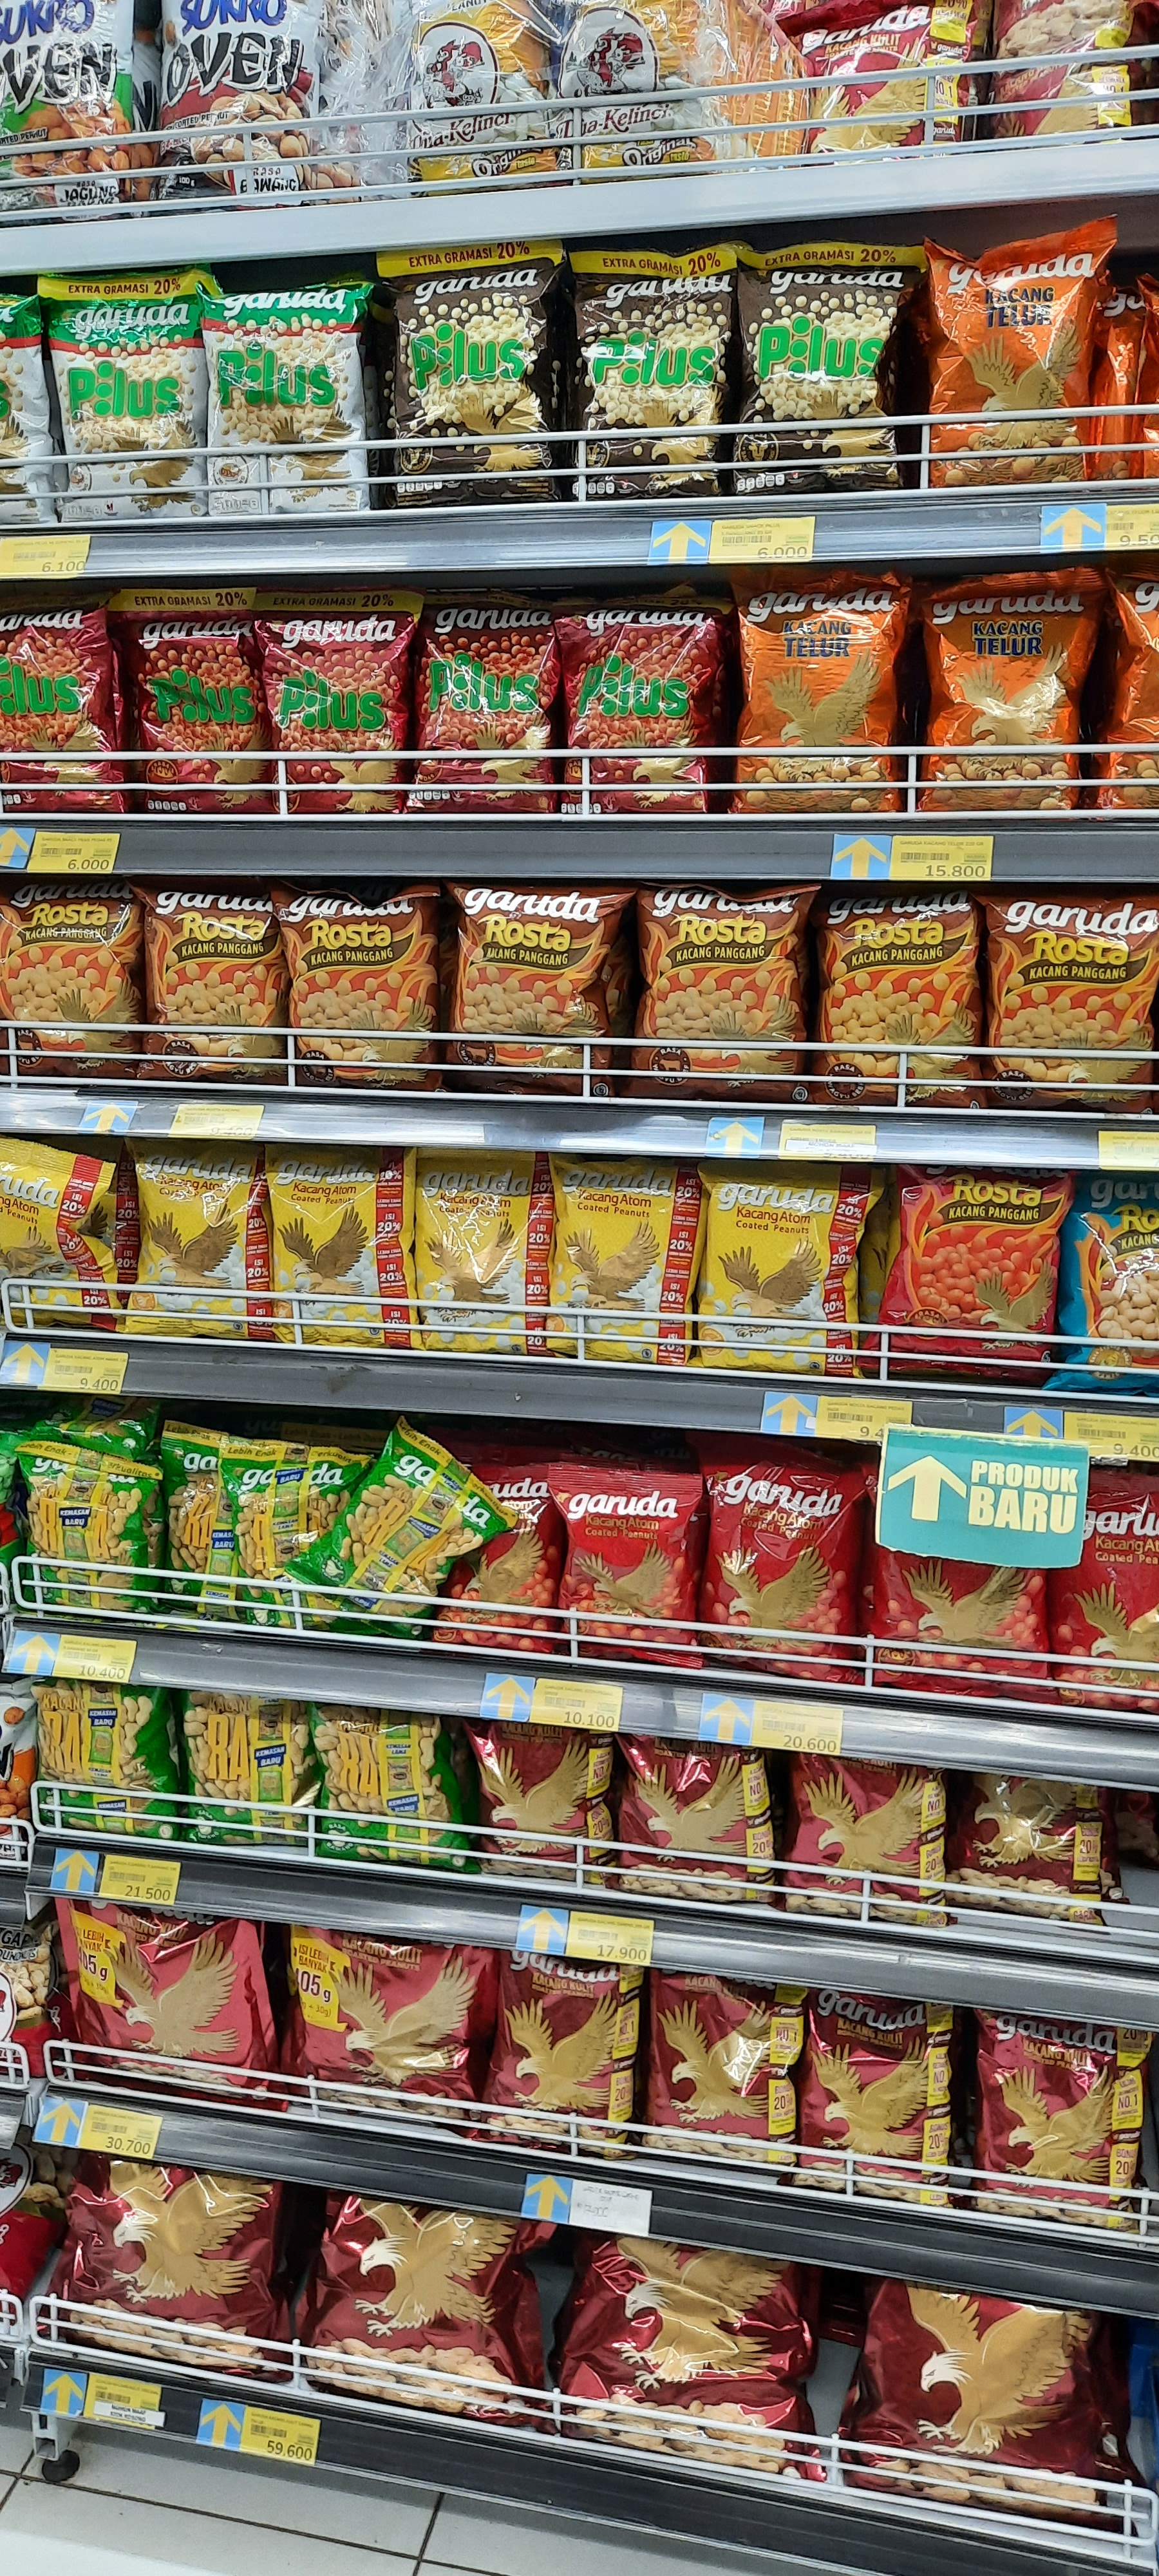90101111202100/Garuda Atom Original - 115g + 23 g: (693, 1170, 891, 1380), (126, 1130, 274, 1342), (264, 1142, 412, 1354), (409, 1145, 557, 1357), (553, 1153, 699, 1365), (0, 1140, 138, 1341)
90101111301100/Atom Pedas Garuda -230g: (696, 1436, 862, 1686)
90101111302100/ Atom Pedas Garuda -100g: (867, 1462, 1047, 1699), (550, 1465, 704, 1669), (1052, 1464, 1159, 1705)
90101111615100/Garuda Rosta Wagyu Beef -100g: (627, 882, 816, 1102), (992, 881, 1159, 1109), (819, 879, 982, 1109), (448, 879, 617, 1097), (277, 871, 447, 1088), (141, 874, 292, 1086), (0, 867, 141, 1084)
90101111701100/Telur Garuda -220g: (726, 568, 916, 813), (916, 570, 1106, 815)
90101112101100/Garing Garuda 750g: (839, 2277, 1141, 2537), (561, 2238, 834, 2492), (307, 2195, 550, 2418), (54, 2147, 299, 2369)
90101112102100/Garing Garuda 750g: (43, 1901, 274, 2111), (281, 1914, 486, 2141)
90101112113100/Garuda Kacang Kulit Premium -155g: (972, 2011, 1154, 2241), (645, 1962, 801, 2180), (801, 1981, 955, 2198), (785, 1751, 955, 1927), (954, 1755, 1125, 1930), (616, 1730, 776, 1909), (465, 1717, 611, 1878)
90101112201100/Garuda Kc. Bawang 190G/210G: (314, 1705, 468, 1871), (171, 1682, 325, 1847), (30, 1679, 182, 1845)
90101112202100Garing Rasa Bawang -90g: (163, 1426, 361, 1633), (20, 1446, 158, 1620)
90101151201100/Pilus Garuda Premium Pedas 80 + 16 g: (558, 585, 727, 812), (258, 590, 405, 813), (115, 588, 263, 812), (412, 585, 558, 808), (0, 586, 123, 816)
90101151402100/ Snack Pilus Sapi Panggang 80 + 16 g: (560, 245, 750, 499), (740, 240, 931, 495), (379, 251, 568, 506)
90101151604100/Garuda Pilus Mi Goreng 80 + 16 G: (38, 278, 213, 521), (202, 276, 378, 519)
